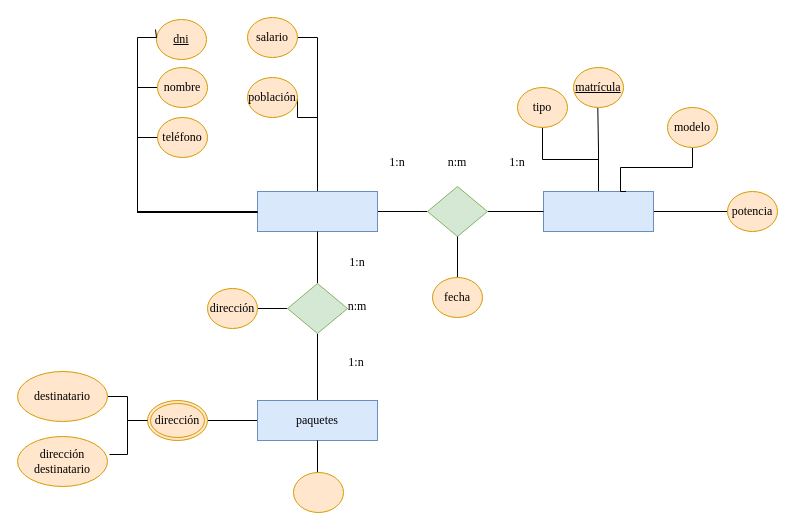
Some shapes in this 795 by 530 pixel diagram are drawn without their labels. The centre of each missing label's shape, as x and y in pixels:
"camioneros" goes at point 317,211.
"camiones" goes at point 598,211.
"conduce" goes at point 457,211.
"código" goes at point 318,492.
"distribuye" goes at point 317,308.
